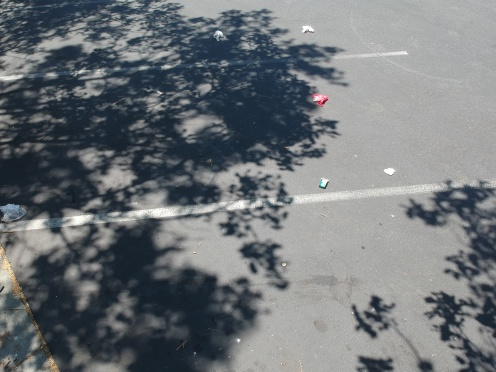plastic bag: (305, 89, 330, 108), (208, 27, 228, 43)
